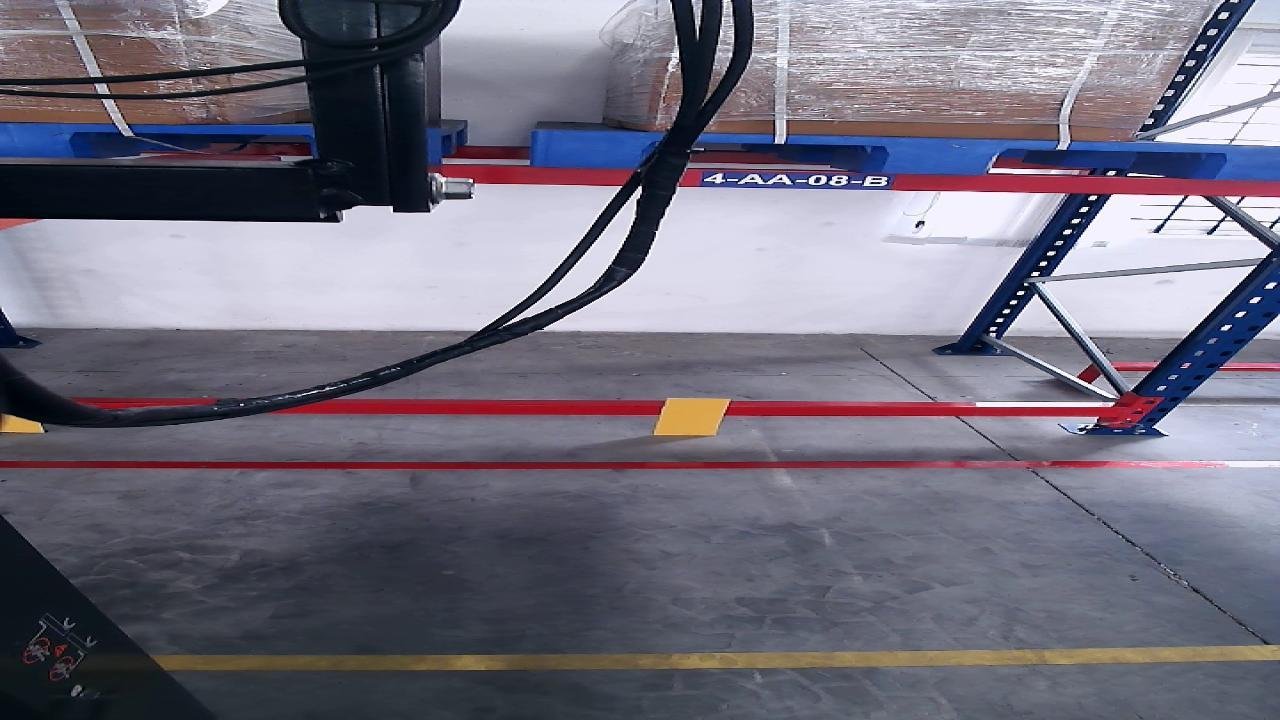h_rack: (445, 166, 1277, 197), (261, 406, 1117, 417)
orange_strip: (653, 398, 727, 436)
red_line: (0, 459, 1276, 467)
small_pallet: (535, 131, 1278, 180)
yellow_line: (152, 646, 1280, 671)
